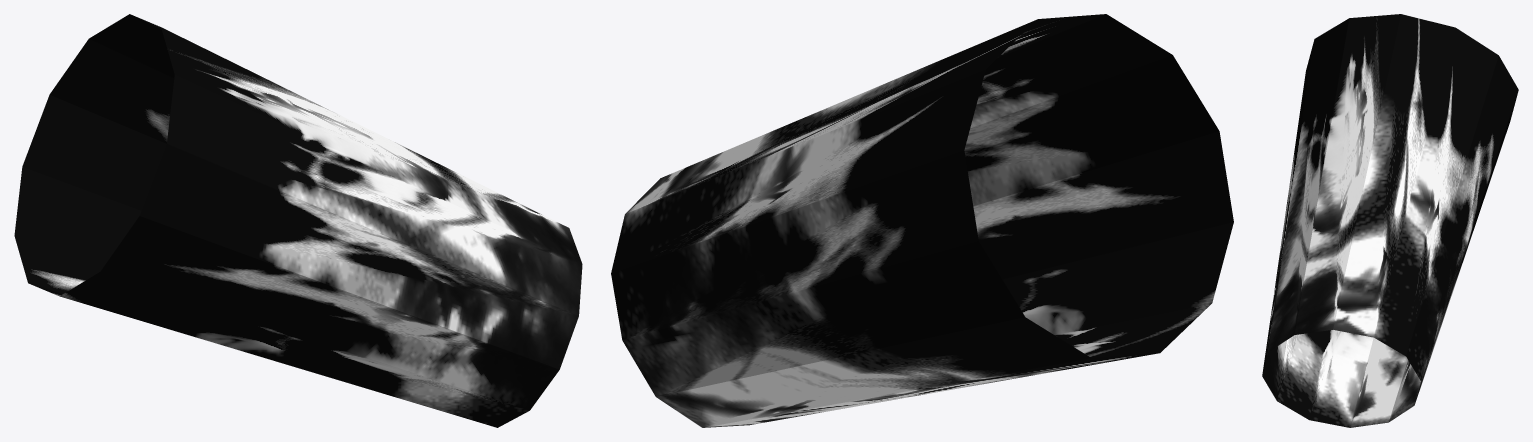
The model's file is vfx-plate-cuff-long.fbx.
3 views of the same model, side by side, from view 1: azimuth 30°, elevation 25°; view 2: azimuth 150°, elevation 25°; view 3: azimuth 270°, elevation 25° (orthographic). The views are drawn at different scales.
Visible parts, largest first — view 1: vfx-plate-cuff-long; view 2: vfx-plate-cuff-long; view 3: vfx-plate-cuff-long.
Part boxes in pixels (x1,y1,x2,y2): vfx-plate-cuff-long: (14,14,582,427); vfx-plate-cuff-long: (611,14,1233,427); vfx-plate-cuff-long: (1262,14,1518,427).
Size of the model in its own units: 25.74 by 21.8 by 16.06.
